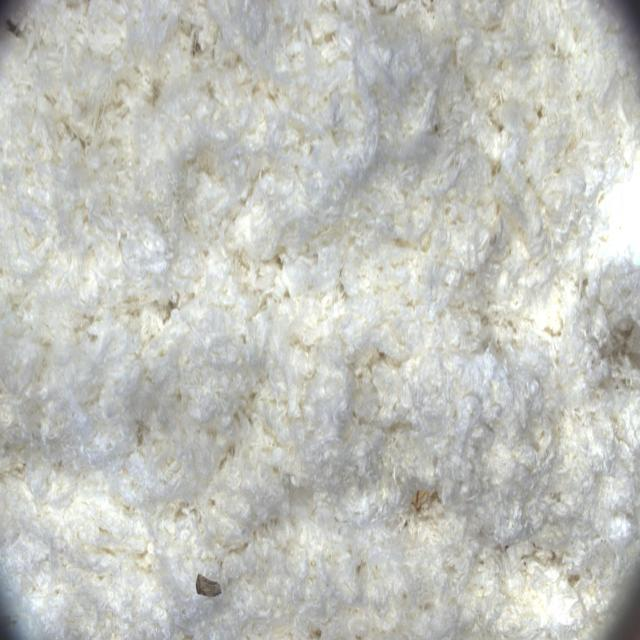dust: (179, 542, 238, 622)
